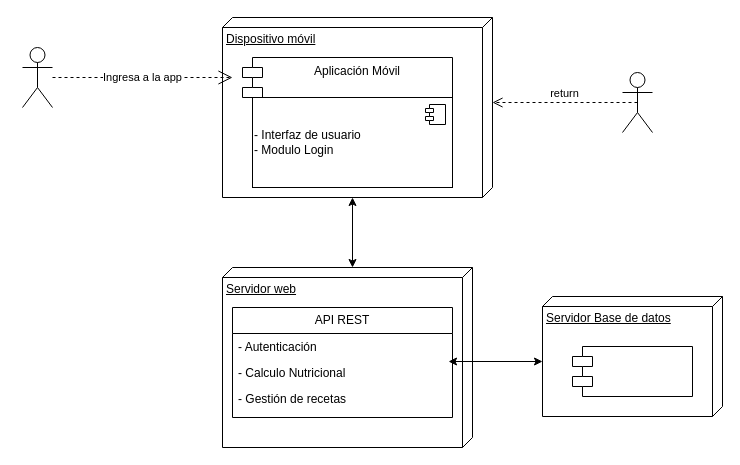
The diagram is 740 pixels wide and 465 high, and some of its shapes have lost their labels. The shapes that lost their labels are listed below. From the top down, each one's centre as x and y in pixels, then its label:
(37,77): Usuario
(637,102): Otros Usuarios
(632,371): Base de datos MySQL
